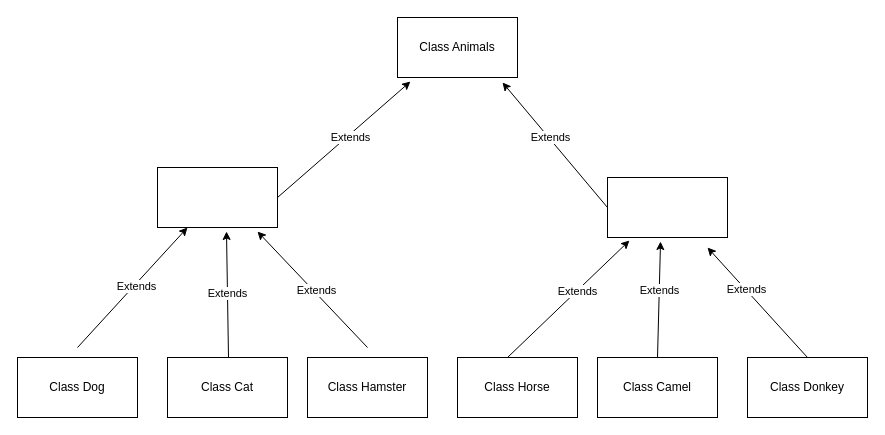
The diagram is 885 pixels wide and 435 high, and some of its shapes have lost their labels. The centre of each missing label's shape, as x and y in pixels:
"Class packanimal" belongs at point (667, 207).
"Class petanimal" belongs at point (217, 197).
